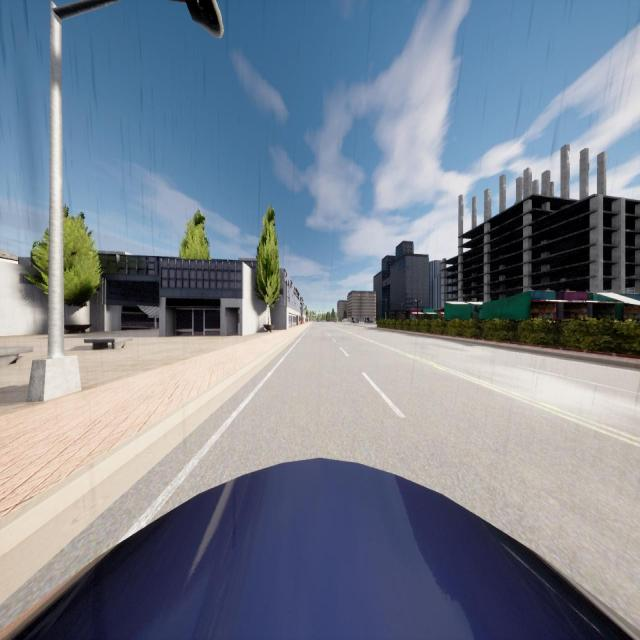Vehicle: (1, 455, 640, 640), (352, 319, 360, 324), (366, 319, 374, 323)
